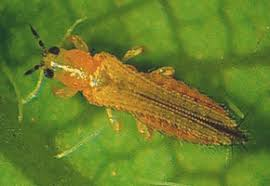Thrips: (20, 7, 259, 155)
